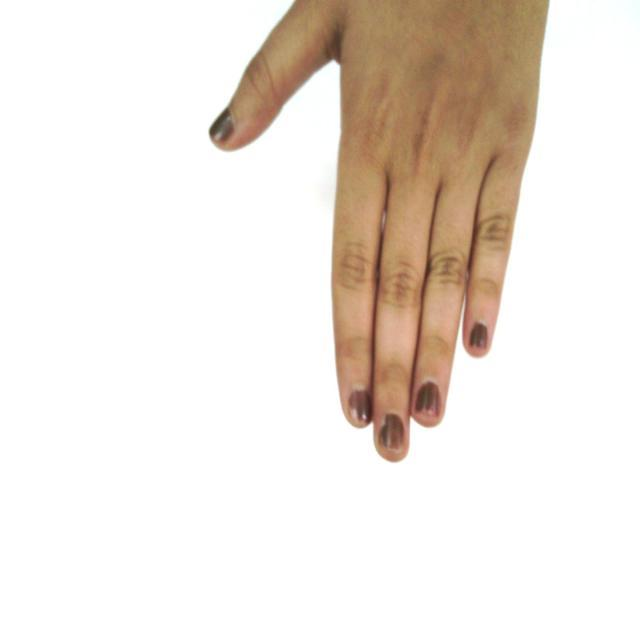Fingernail: (414, 378, 441, 418), (379, 411, 404, 451), (209, 108, 234, 144), (348, 387, 372, 424), (470, 321, 487, 350)
